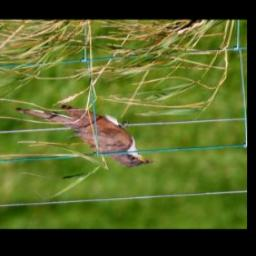Cuckoo: (13, 98, 155, 171)
